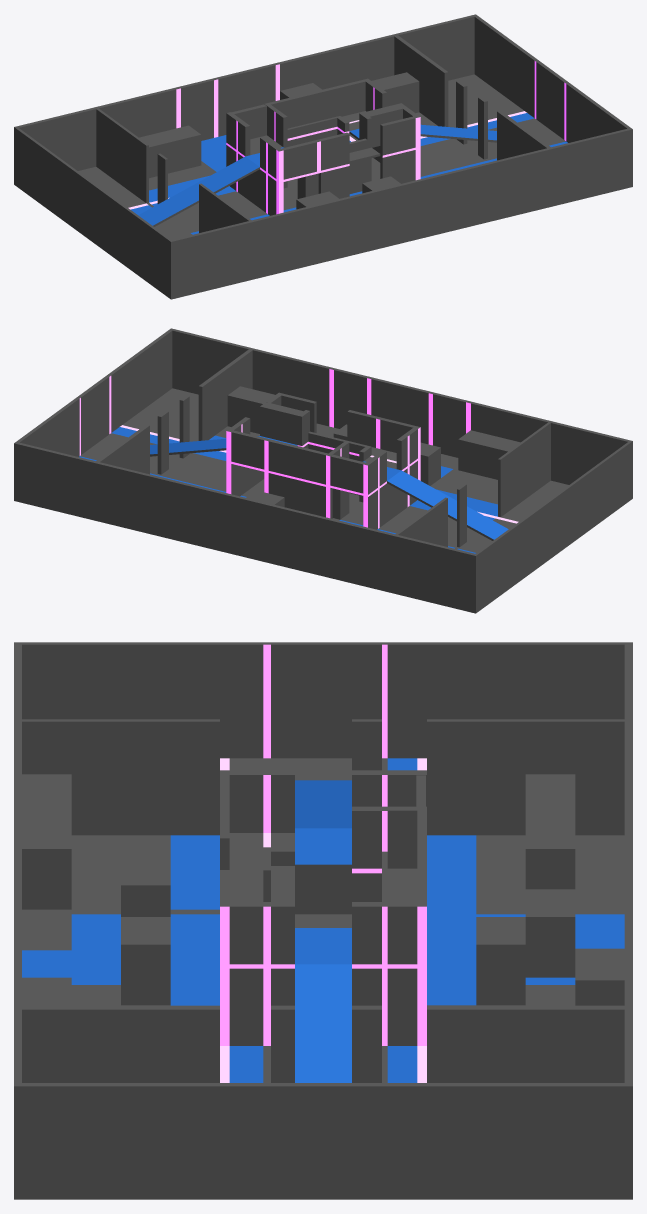
Rendered from warfacemap.glb.
3 renders of one model, top to bottom at view 1: azimuth 30°, elevation 25°; view 2: azimuth 150°, elevation 25°; view 3: azimuth 270°, elevation 25°, orthographic. The views are drawn at different scales.
Visible parts, largest first — view 1: Plane; view 2: Plane; view 3: Plane.
Part boxes in pixels (x1=…): Plane: x1=14, y1=14, x2=632, y2=299; Plane: x1=14, y1=328, x2=632, y2=613; Plane: x1=14, y1=642, x2=632, y2=1199.
Bounding box in the file's own units: 12.86 × 1.92 × 7.57.
